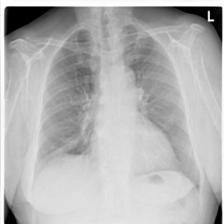tuberculosis: (31, 23, 206, 211)
